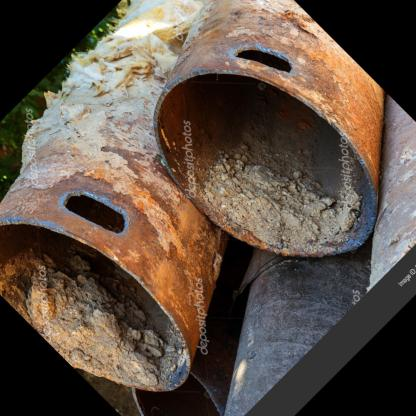burst: (59, 185, 144, 241), (213, 47, 306, 83)
